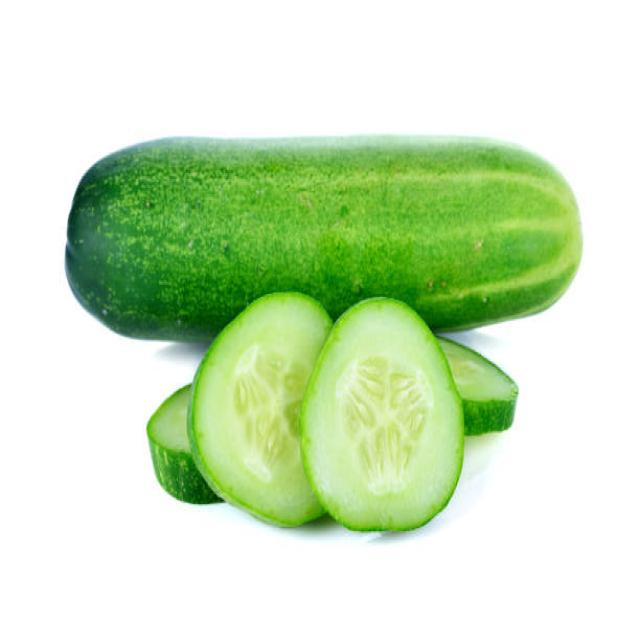cucumber: (65, 134, 583, 344)
